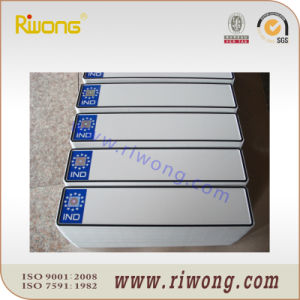inlp: (50, 184, 263, 231), (60, 145, 254, 185), (67, 110, 248, 144), (73, 81, 243, 114)
